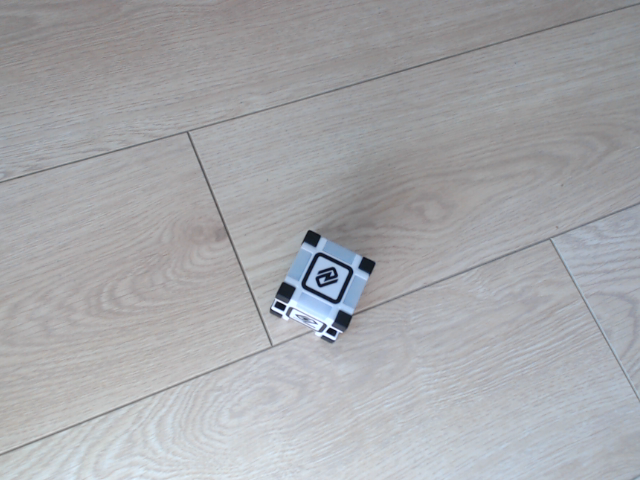block: (269, 225, 379, 348)
